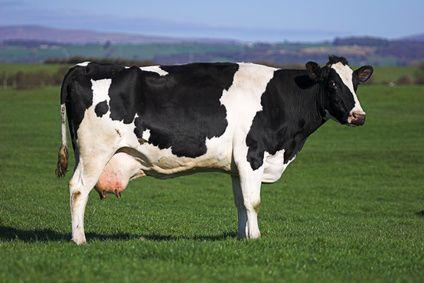cow: (22, 28, 380, 254)
